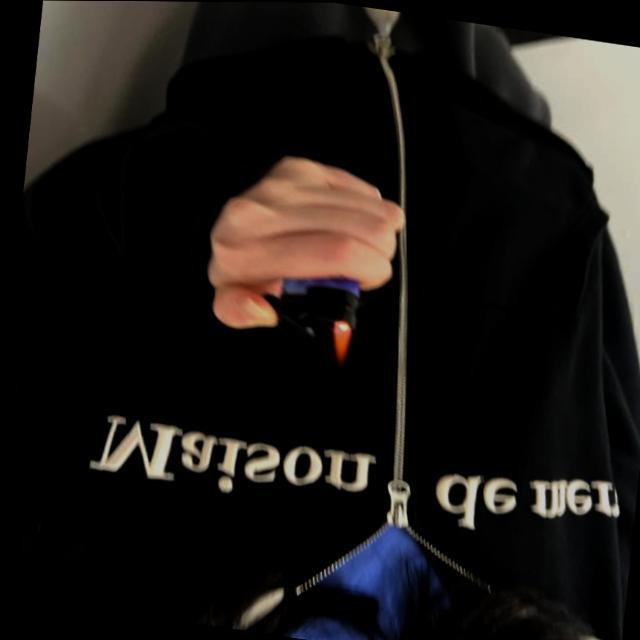Fire: (323, 317, 353, 371)
